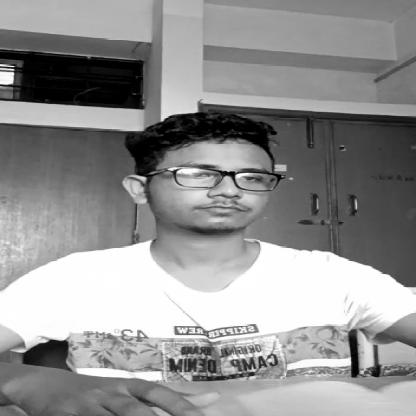Normal: (125, 110, 283, 236)
